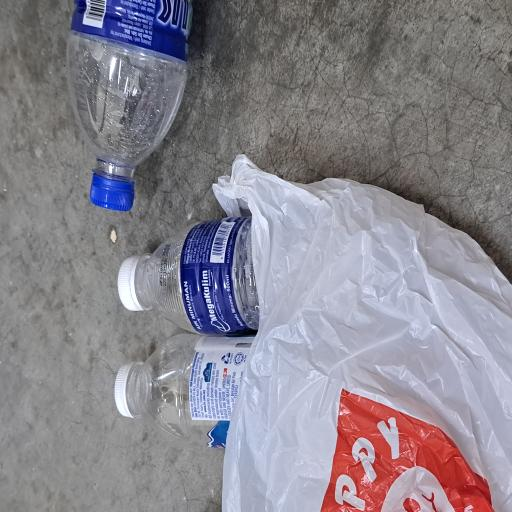plastic bag: (0, 0, 298, 363)
plastic bottle: (322, 338, 446, 512), (233, 179, 366, 298), (260, 63, 378, 179)
plastic bottle cap: (378, 294, 423, 342), (372, 86, 400, 152), (367, 194, 395, 258)
